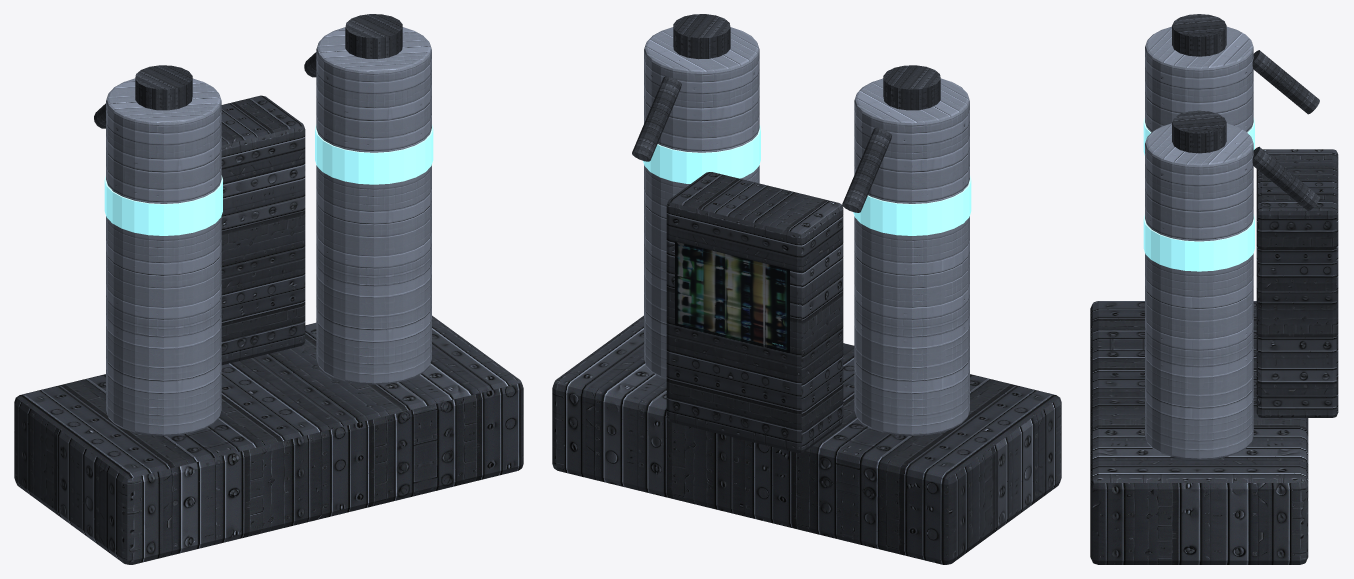
The model's file is device_oxygen.glb.
The picture shows the model from 3 angles, left to right: view 1: azimuth 30°, elevation 25°; view 2: azimuth 150°, elevation 25°; view 3: azimuth 270°, elevation 25°; orthographic projection. The views are drawn at different scales.
Visible parts, largest first — view 1: base, tank_-1, tank_1, console, tank_glass_-1, tank_glass_1, cap_-1, cap_1; view 2: base, console, tank_-1, tank_1, display, tank_glass_-1, tank_glass_1, cap_-1, cap_1, pipe_r, pipe_l; view 3: base, tank_1, console, tank_-1, tank_glass_1, cap_1, cap_-1, pipe_l, pipe_r.
Boxes of the visible parts, x1=… form: base: x1=14, y1=315, x2=523, y2=564; tank_-1: x1=106, y1=78, x2=221, y2=435; tank_1: x1=316, y1=27, x2=431, y2=384; console: x1=221, y1=95, x2=305, y2=365; tank_glass_-1: x1=104, y1=175, x2=222, y2=235; tank_glass_1: x1=315, y1=124, x2=433, y2=184; cap_-1: x1=135, y1=65, x2=192, y2=110; cap_1: x1=345, y1=14, x2=402, y2=59; base: x1=552, y1=315, x2=1061, y2=564; console: x1=666, y1=172, x2=843, y2=453; tank_-1: x1=854, y1=78, x2=969, y2=435; tank_1: x1=644, y1=27, x2=759, y2=379; display: x1=675, y1=241, x2=789, y2=353; tank_glass_-1: x1=853, y1=176, x2=971, y2=235; tank_glass_1: x1=643, y1=124, x2=760, y2=183; cap_-1: x1=883, y1=65, x2=940, y2=110; cap_1: x1=673, y1=14, x2=730, y2=59; pipe_r: x1=632, y1=76, x2=681, y2=161; pipe_l: x1=842, y1=128, x2=891, y2=212; base: x1=1090, y1=301, x2=1308, y2=564; tank_1: x1=1145, y1=123, x2=1253, y2=459; console: x1=1256, y1=149, x2=1338, y2=417; tank_-1: x1=1145, y1=26, x2=1253, y2=132; tank_glass_1: x1=1143, y1=214, x2=1254, y2=271; cap_1: x1=1172, y1=110, x2=1226, y2=153; cap_-1: x1=1172, y1=14, x2=1226, y2=56; pipe_l: x1=1252, y1=50, x2=1319, y2=114; pipe_r: x1=1252, y1=146, x2=1319, y2=210.
Bounding box in the file's own units: 1.6 × 1.63 × 0.915.
Materials: 4 (3 with a texture image).
